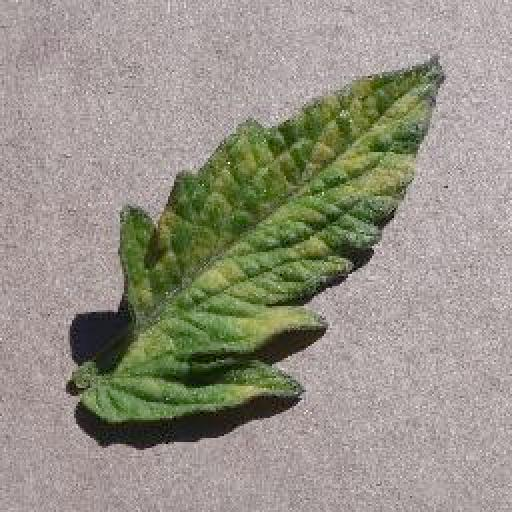disease_tomato: (76, 50, 444, 424)
